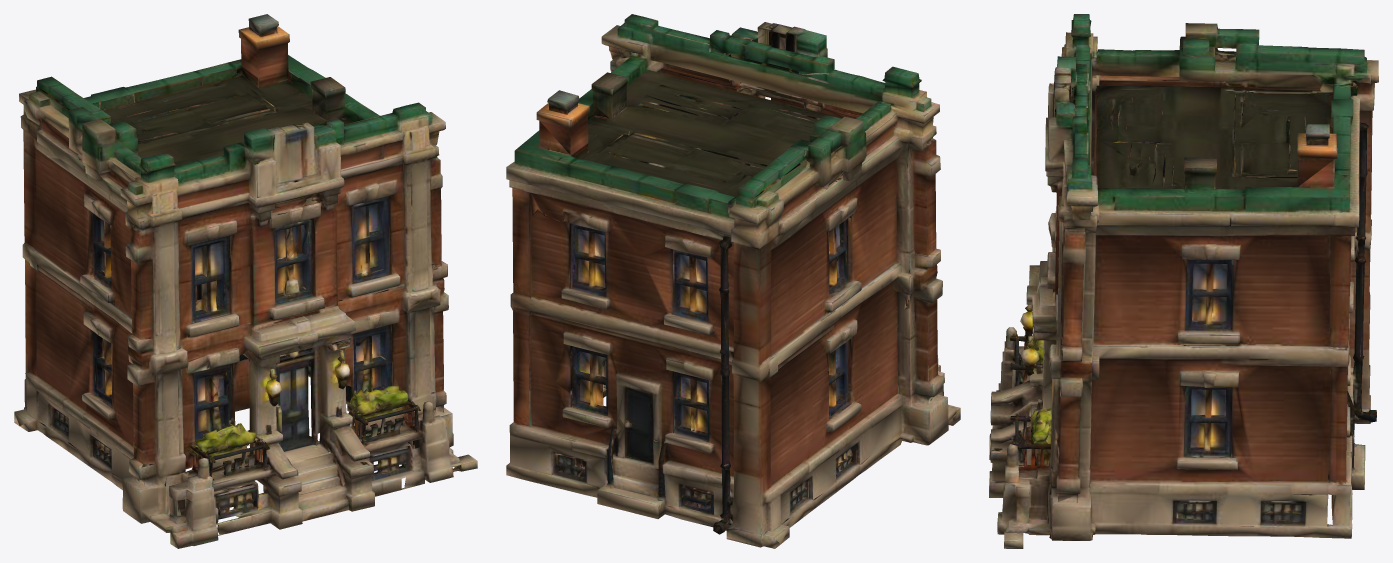
File: villa_2.glb
3 views of the same model, side by side, from view 1: azimuth 30°, elevation 25°; view 2: azimuth 150°, elevation 25°; view 3: azimuth 270°, elevation 25° (orthographic). The views are drawn at different scales.
Parts seen in each view (by area): view 1: expansion__villa_2__neural_lod; view 2: expansion__villa_2__neural_lod; view 3: expansion__villa_2__neural_lod.
Boxes of the visible parts, <box> form: expansion__villa_2__neural_lod: <box>14,14,477,548</box>; expansion__villa_2__neural_lod: <box>506,14,960,548</box>; expansion__villa_2__neural_lod: <box>989,14,1378,548</box>.
Bounding box in the file's own units: 0.8951 × 0.9993 × 0.8936.
Materials: 1 (1 with a texture image).
